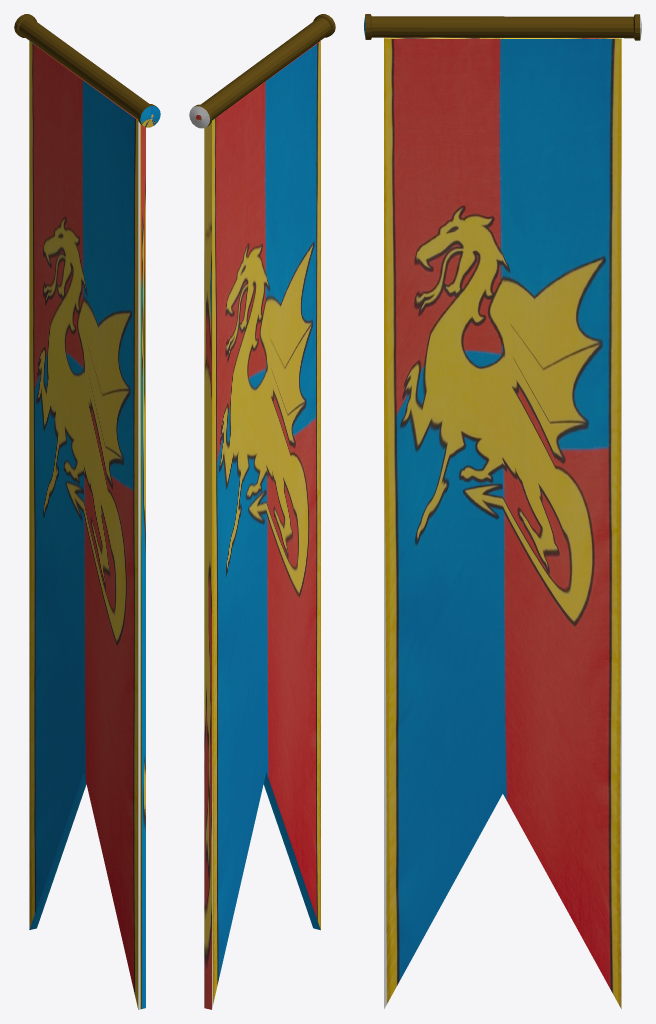
Rendered from Banner.glb.
3 renders of one model, left to right at view 1: azimuth 30°, elevation 25°; view 2: azimuth 150°, elevation 25°; view 3: azimuth 270°, elevation 25°, orthographic. The views are drawn at different scales.
Parts seen in each view (by area): view 1: Cube; view 2: Cube; view 3: Cube.
Boxes of the visible parts, x1,y1,x2,y2 form: Cube: [14, 14, 160, 1009]; Cube: [189, 14, 335, 1009]; Cube: [364, 14, 641, 1008].
Size of the model in its own units: 0.2217 by 9.21 by 2.34.
2 materials, 1 textured.
